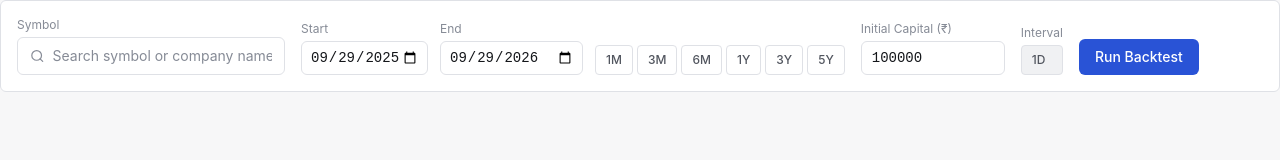
Test: BacktestControls › rejects running without an instrument selected
This screenshot has width=1280, height=160.
Click the button "Run Backtest": (1139, 57) [1079,39,1199,75]
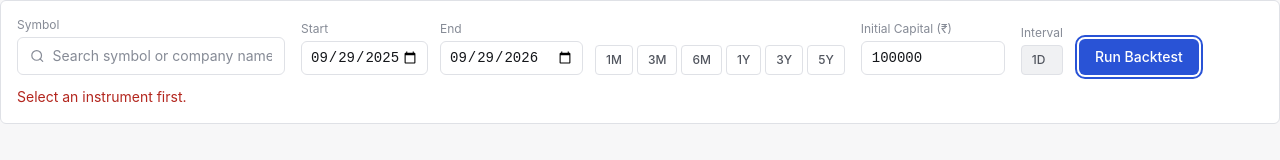
Check: the message shows "Select an instrument", box [17,88,186,105]
